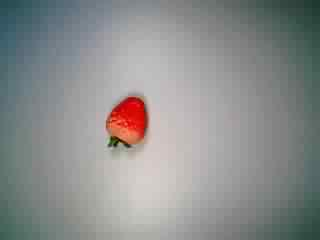strawberry: (89, 92, 157, 156)
